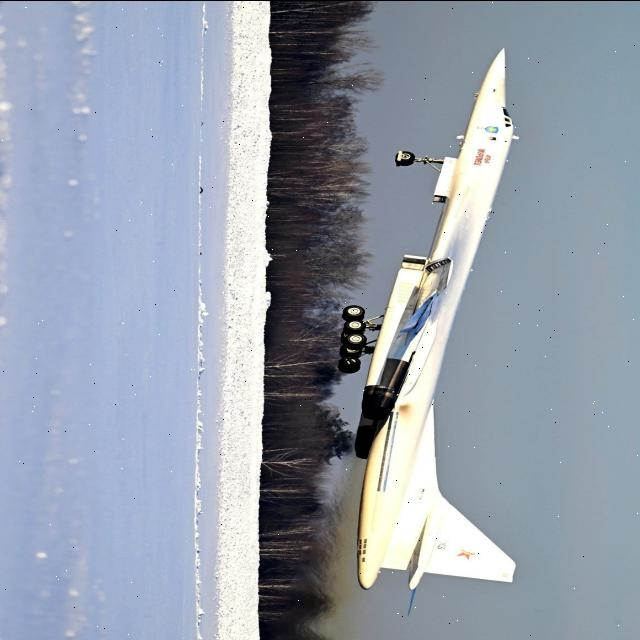Tu160: (245, 49, 577, 612)
